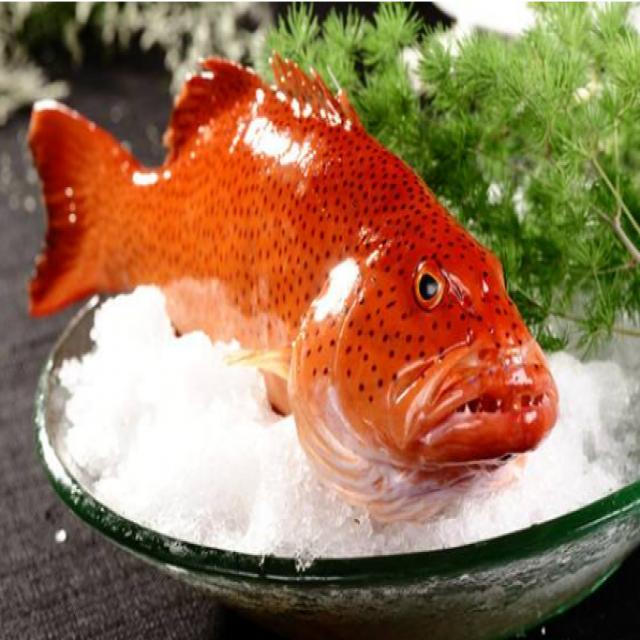Plectropomus-leopardus: (20, 52, 567, 498)
